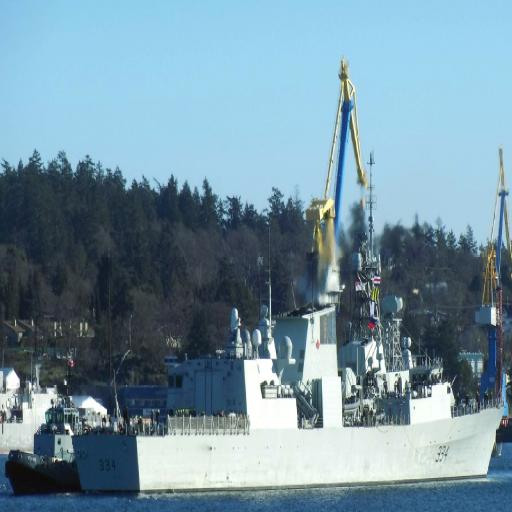Fragata: (68, 192, 512, 500)
